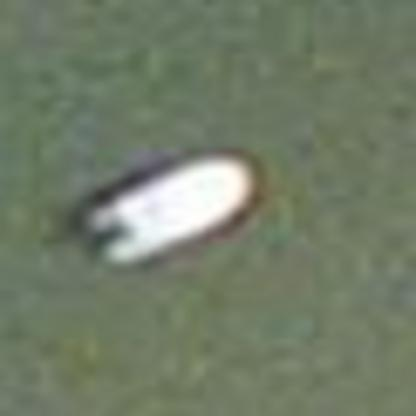ship: (63, 138, 270, 277)
